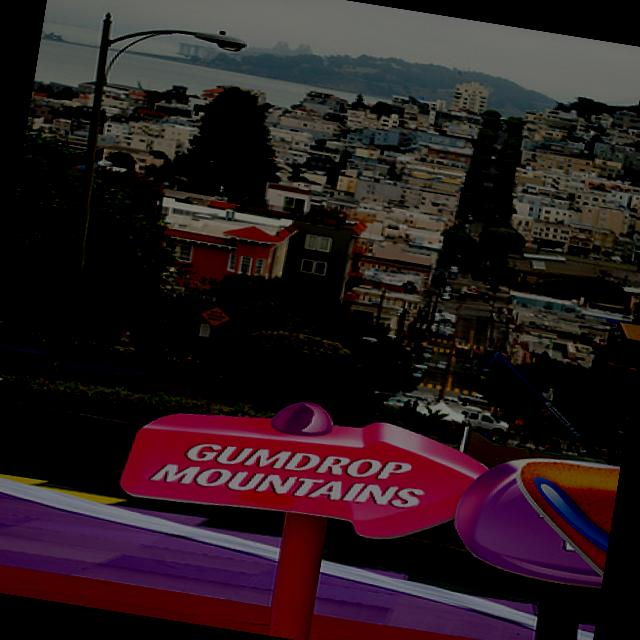Vehicle: (442, 402, 512, 434), (457, 392, 493, 408), (430, 394, 471, 406), (382, 395, 410, 411), (427, 330, 451, 340), (412, 364, 430, 374), (409, 371, 425, 382), (434, 320, 454, 328), (434, 359, 446, 372), (454, 348, 468, 358), (422, 352, 433, 363), (421, 345, 434, 354)
